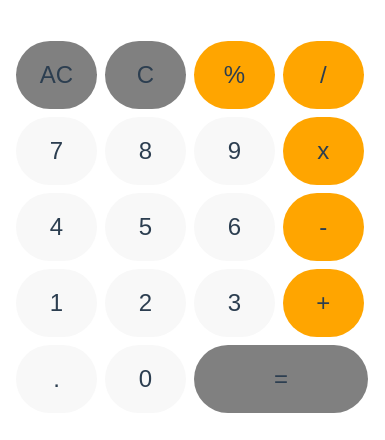
Scenario: Calculator › type zero and a number sequencially
//  click 0
Click the button "0" at (146, 379), box top-left (105, 345), bottom-right (186, 413)
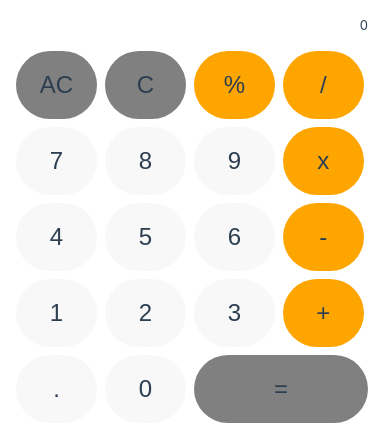
//  click 2
Click the button "2" at (146, 313), box top-left (105, 279), bottom-right (186, 347)
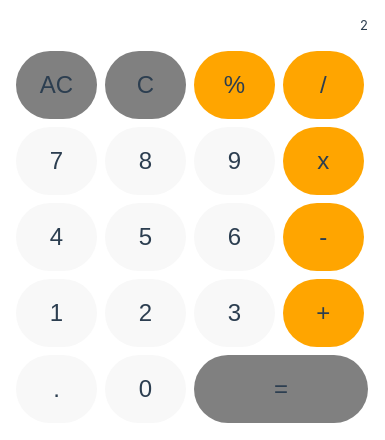
Check: the text with id "expr" reads "2", box top-left (360, 17), bottom-right (368, 33)
